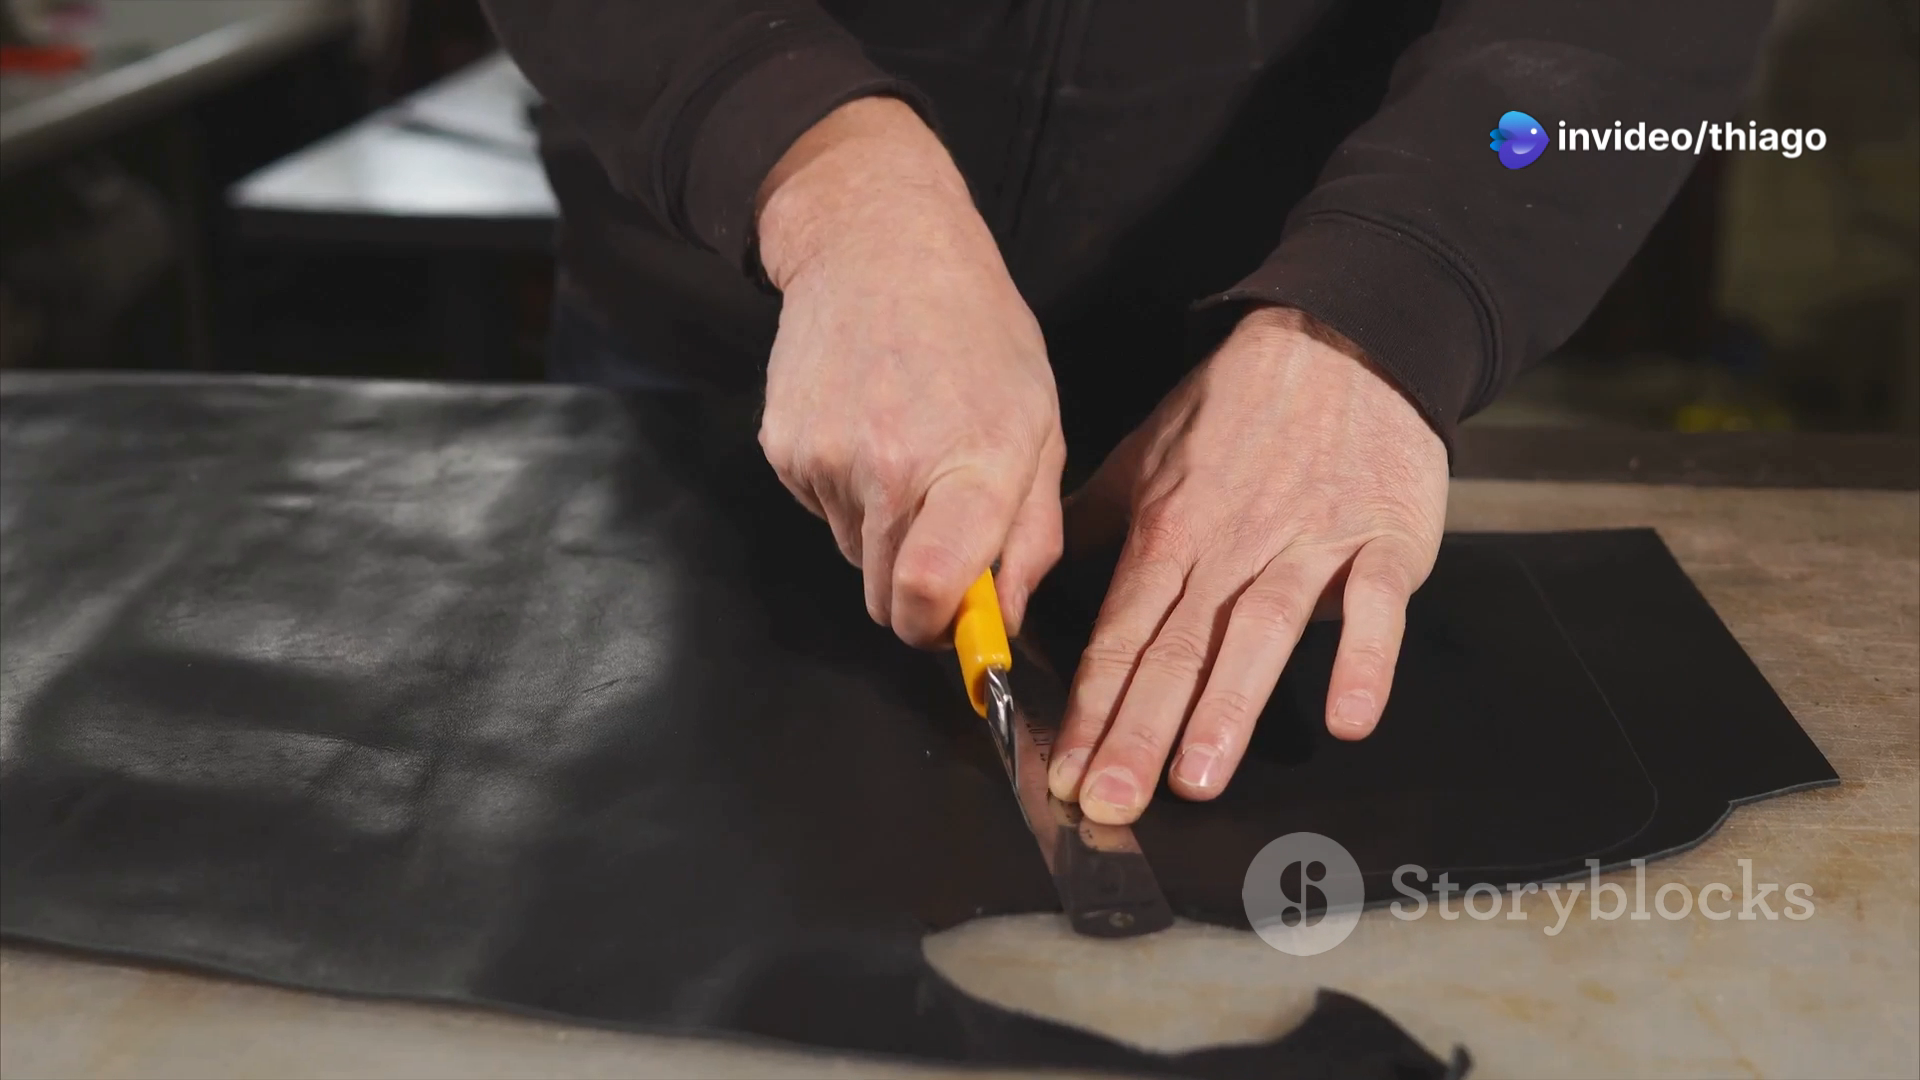cortante: (984, 663, 1022, 795)
